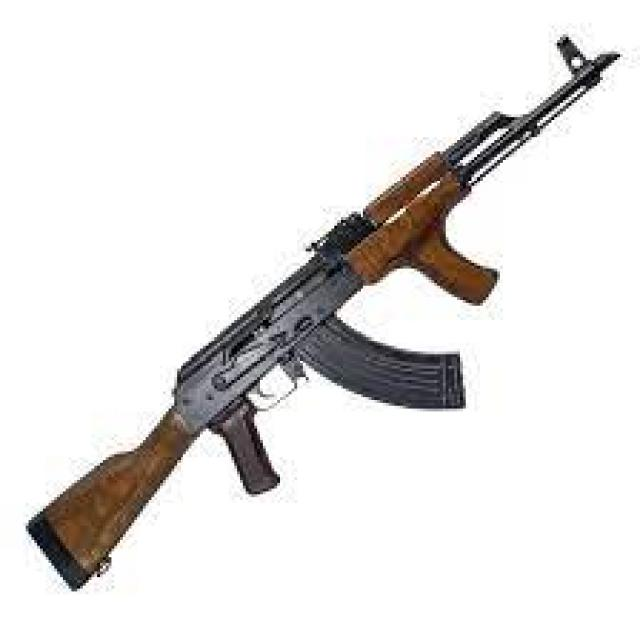heavy-weapon: (23, 33, 624, 592)
